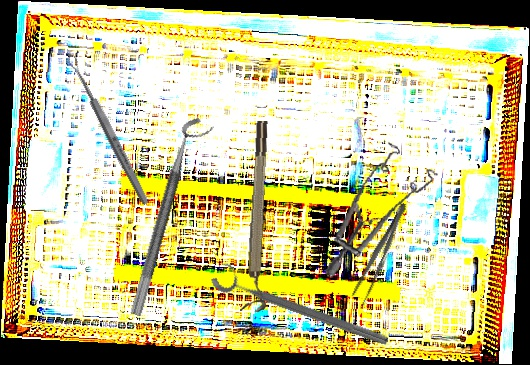Dressing Forceps: (347, 199, 413, 311)
Fixation Ring: (129, 114, 215, 322), (208, 258, 395, 352), (240, 120, 279, 313)
Speculum: (323, 134, 443, 292)
Surgical Spoon: (65, 53, 152, 207)
